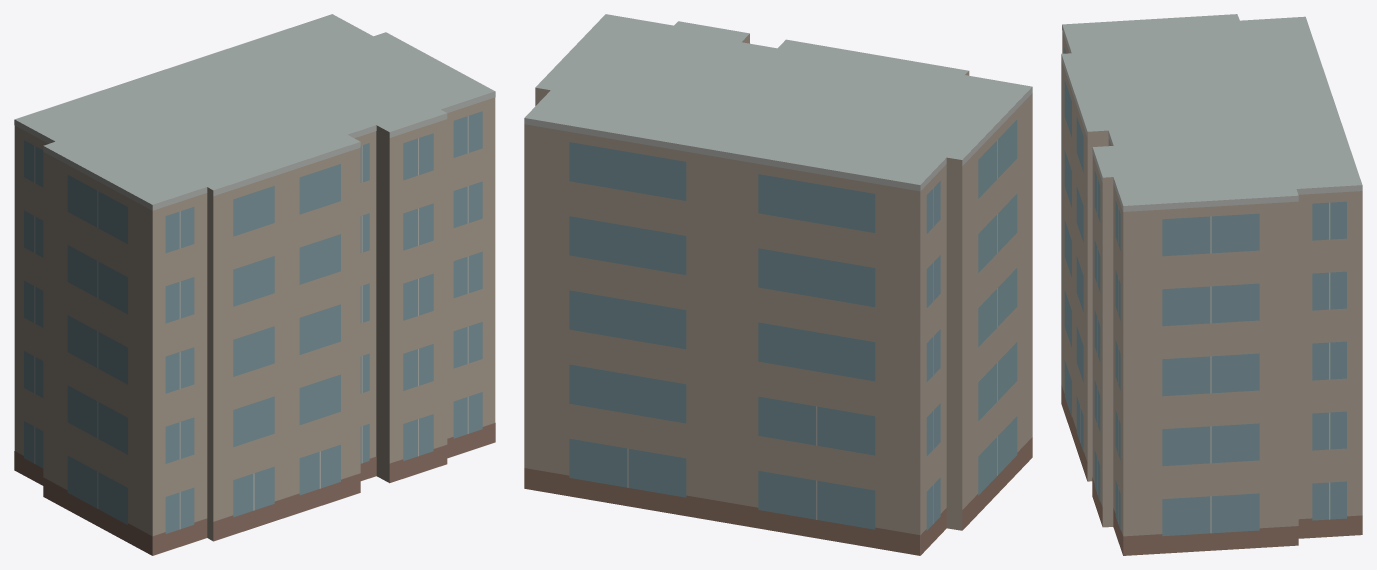
The model's file is survey-upis-32532875.glb.
3 views of the same model, side by side, from view 1: azimuth 30°, elevation 25°; view 2: azimuth 150°, elevation 25°; view 3: azimuth 270°, elevation 25° (orthographic). The views are drawn at different scales.
Parts seen in each view (by area): view 1: survey-upis-32532875.tmp; view 2: survey-upis-32532875.tmp; view 3: survey-upis-32532875.tmp.
Part boxes in pixels (x1=…): survey-upis-32532875.tmp: x1=14, y1=14, x2=495, y2=555; survey-upis-32532875.tmp: x1=524, y1=14, x2=1032, y2=555; survey-upis-32532875.tmp: x1=1061, y1=14, x2=1362, y2=555.
Bounding box in the file's own units: 17.12 × 14.53 × 11.34.
